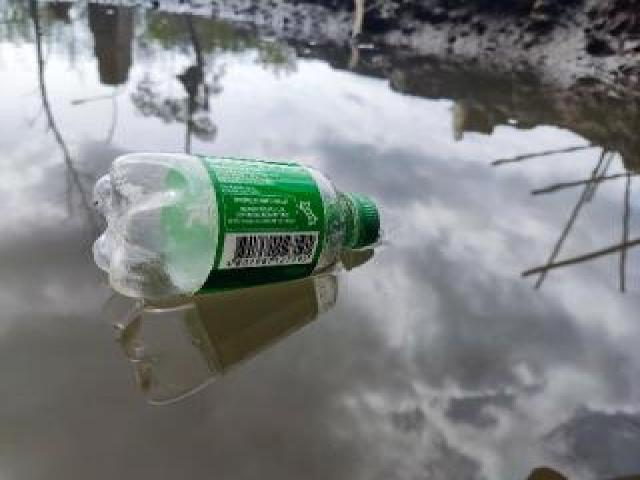Bottle: (78, 144, 392, 305)
